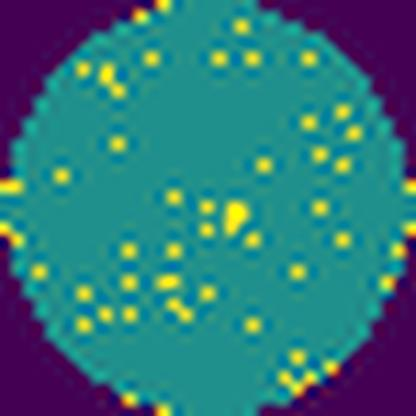Center: (222, 196, 255, 238)
